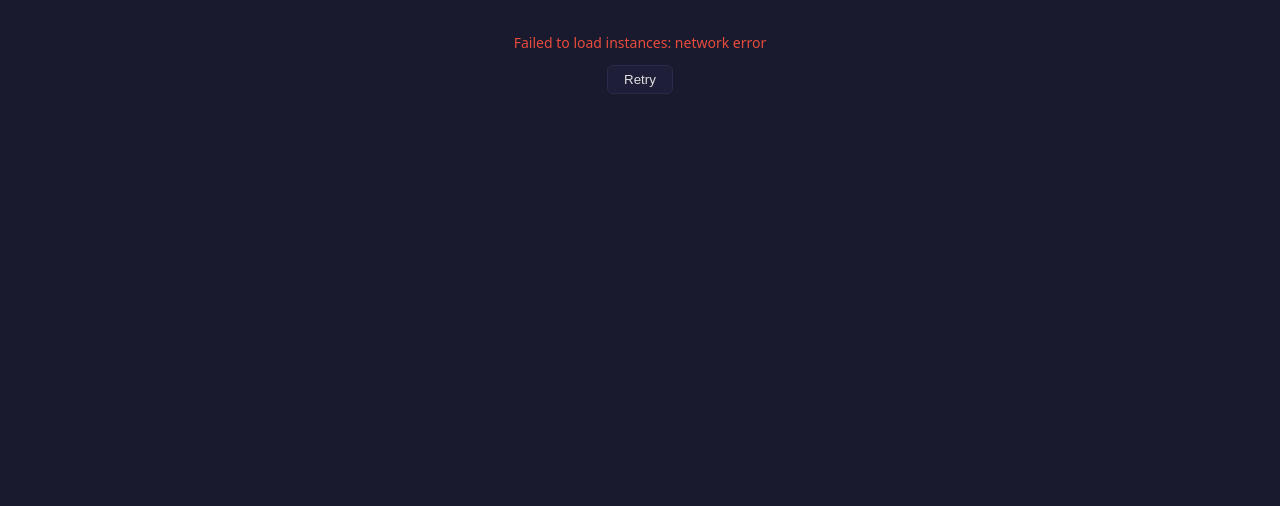
Test: QueueView loading and error states › shows error state when fetchAll rejects, and Retry re-runs it
Expected: the text "Failed to load instances: network error" is shown, 514,33 -> 766,52
Click the button "Retry": coordinates (640, 80) 607,65 -> 673,94
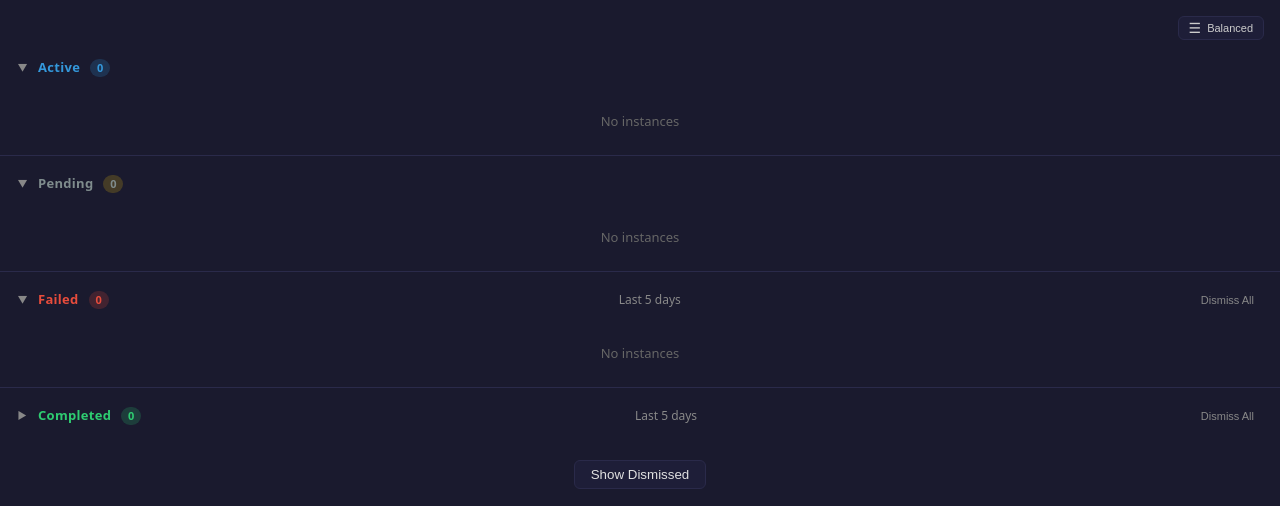
Expected: the button "Show Dismissed" is shown, 574,460 -> 706,488
